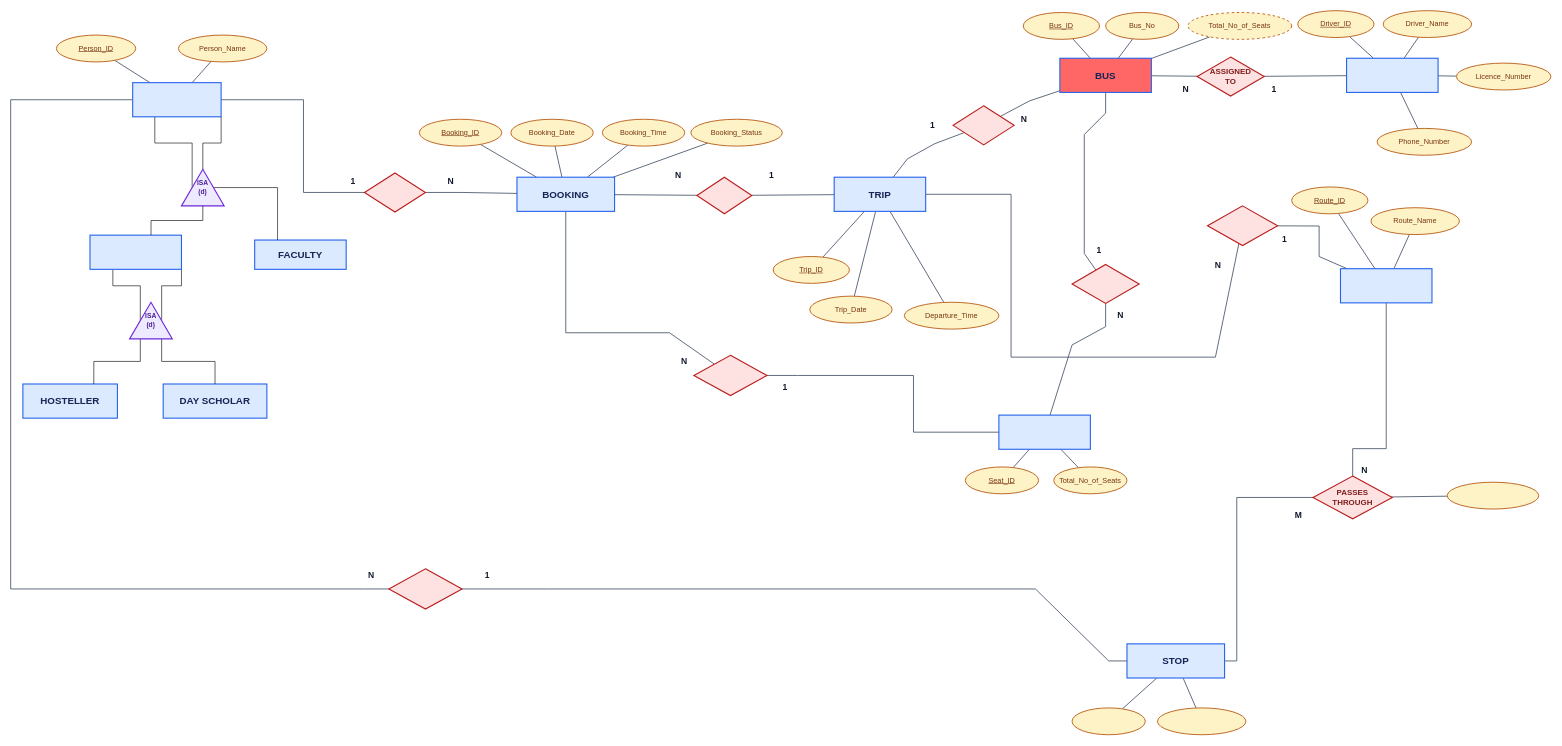
The diagram is 1562 pixels wide and 746 high, and some of its shapes have lost their labels. The shapes that lost their labels are listed below. From the top down, each one's centre as x and y in pixels, then its label:
At (1392,75): "DRIVER".
At (176,99): "PERSON".
At (983,125): "USES".
At (395,192): "MAKES".
At (724,195): "FOR".
At (1242,225): "FOLLOWS".
At (135,252): "STUDENT".
At (1105,284): "HAS SEAT".
At (1386,285): "ROUTE".
At (730,375): "RESERVES".
At (1044,432): "SEAT".
At (1492,495): "Stop_Order".
At (425,588): "BOARDS AT".
At (1108,721): "Stop_ID".
At (1201,721): "Stop_Name".
